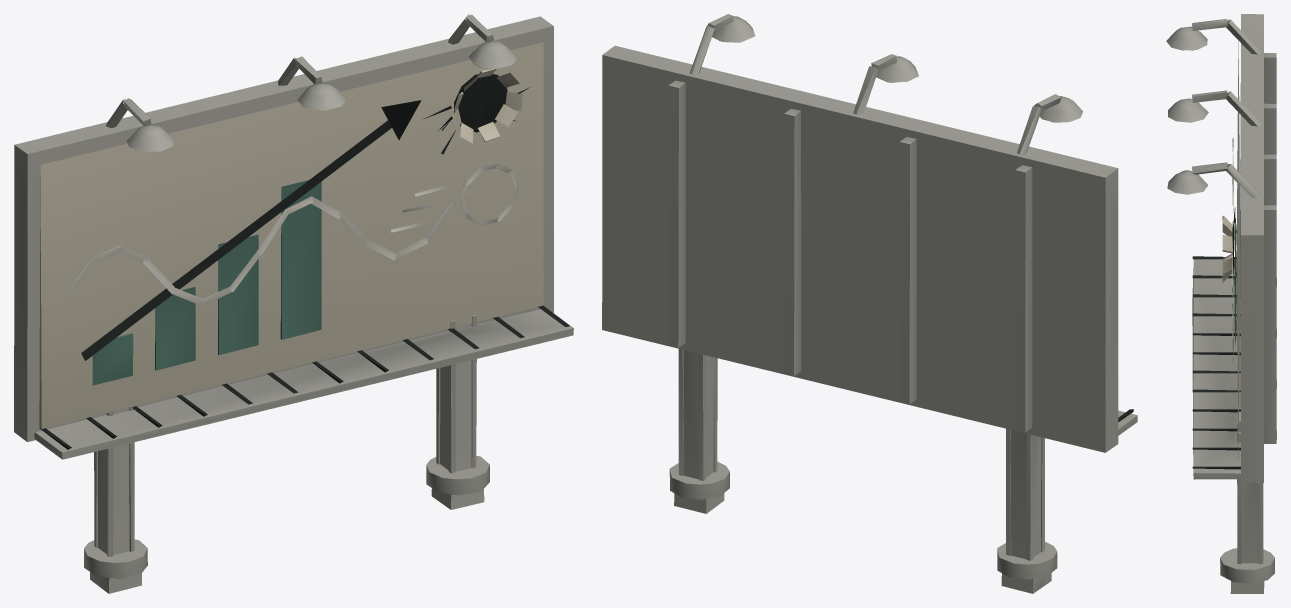
Rendered from foreman_billboard_b_lod2.glb.
The picture shows the model from 3 angles, left to right: view 1: azimuth 30°, elevation 25°; view 2: azimuth 150°, elevation 25°; view 3: azimuth 270°, elevation 25°; orthographic projection. The views are drawn at different scales.
Parts seen in each view (by area): view 1: Surface.001; view 2: Surface.001; view 3: Surface.001.
Boxes of the visible parts, left/top/right/bottom form: Surface.001: left=14, top=14, right=573, bottom=593; Surface.001: left=602, top=14, right=1137, bottom=593; Surface.001: left=1166, top=14, right=1276, bottom=593.
Bounding box in the file's own units: 10.48 × 9.39 × 2.21.
